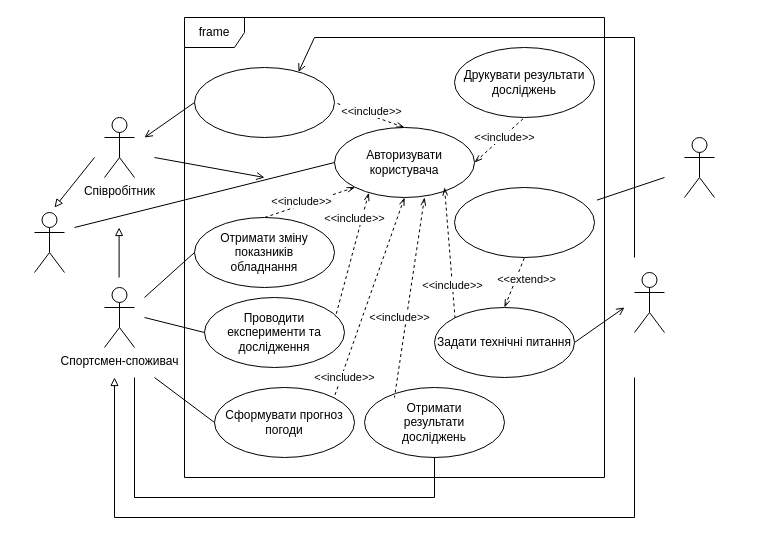
Image size: 767x543. Some labels were removed from this diagram. Here are the shapes that lost their labels. From the top down, the centre of each, then its label:
the point at 264,102: Отримати технічні відповіді
the point at 699,167: Google Search API
the point at 49,242: Користувач
the point at 524,222: Online-запит
the point at 649,302: Співробітник офісу
